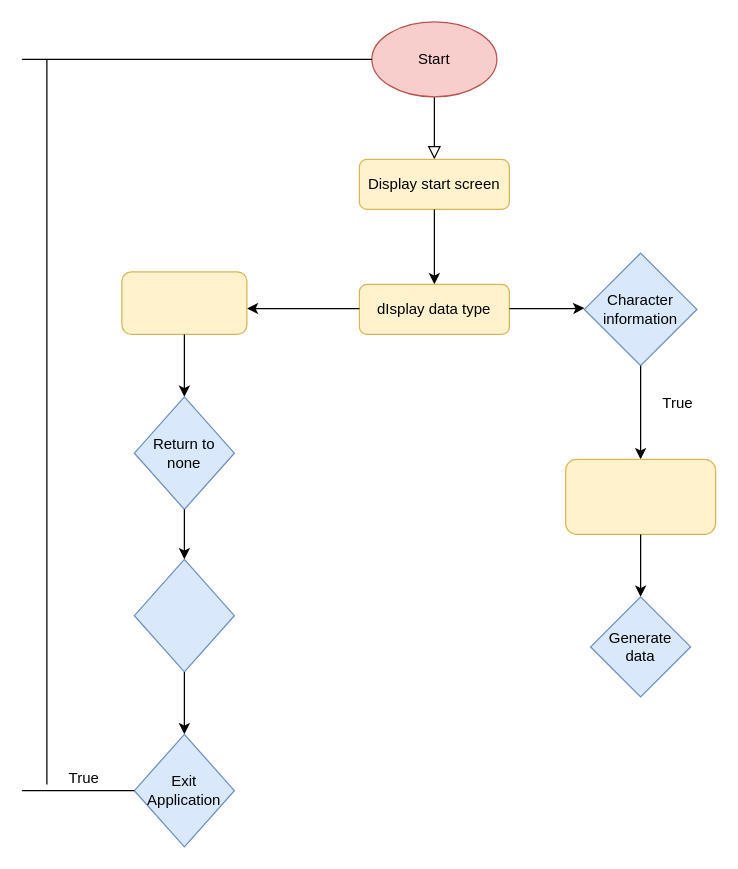
The diagram is 738 pixels wide and 869 high, and some of its shapes have lost their labels. Each missing label, with the centre of its shape:
Open instructions: the point at 183,615
Open main menu: the point at 184,302
Request "random" endpoint from API: the point at 640,496
